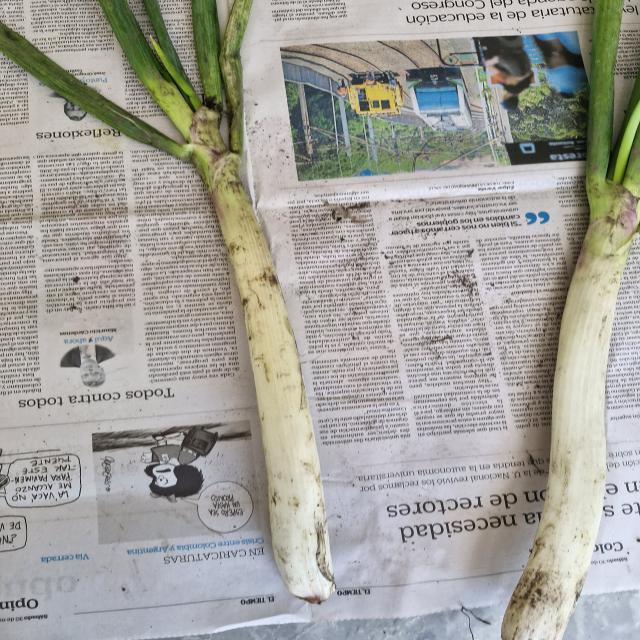green_onion: (1, 0, 342, 607), (498, 0, 640, 633)
